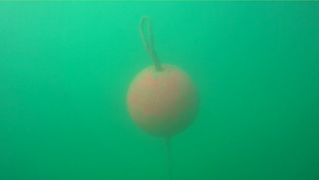buoy: (126, 65, 200, 138)
